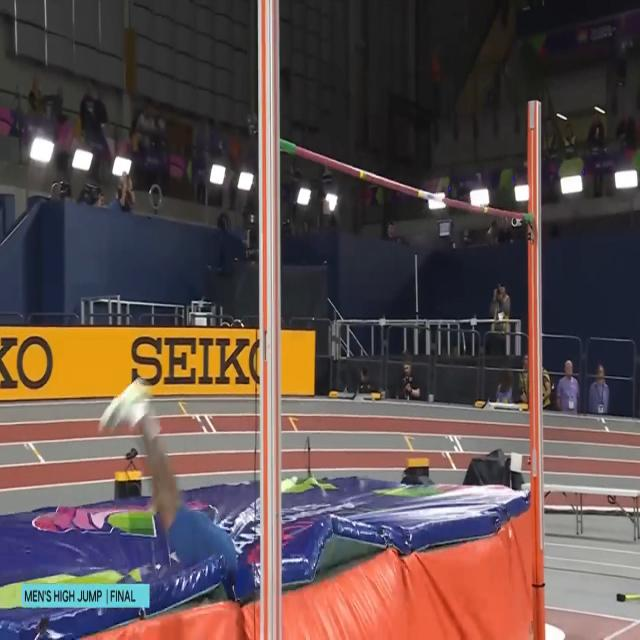land: (98, 372, 238, 578)
